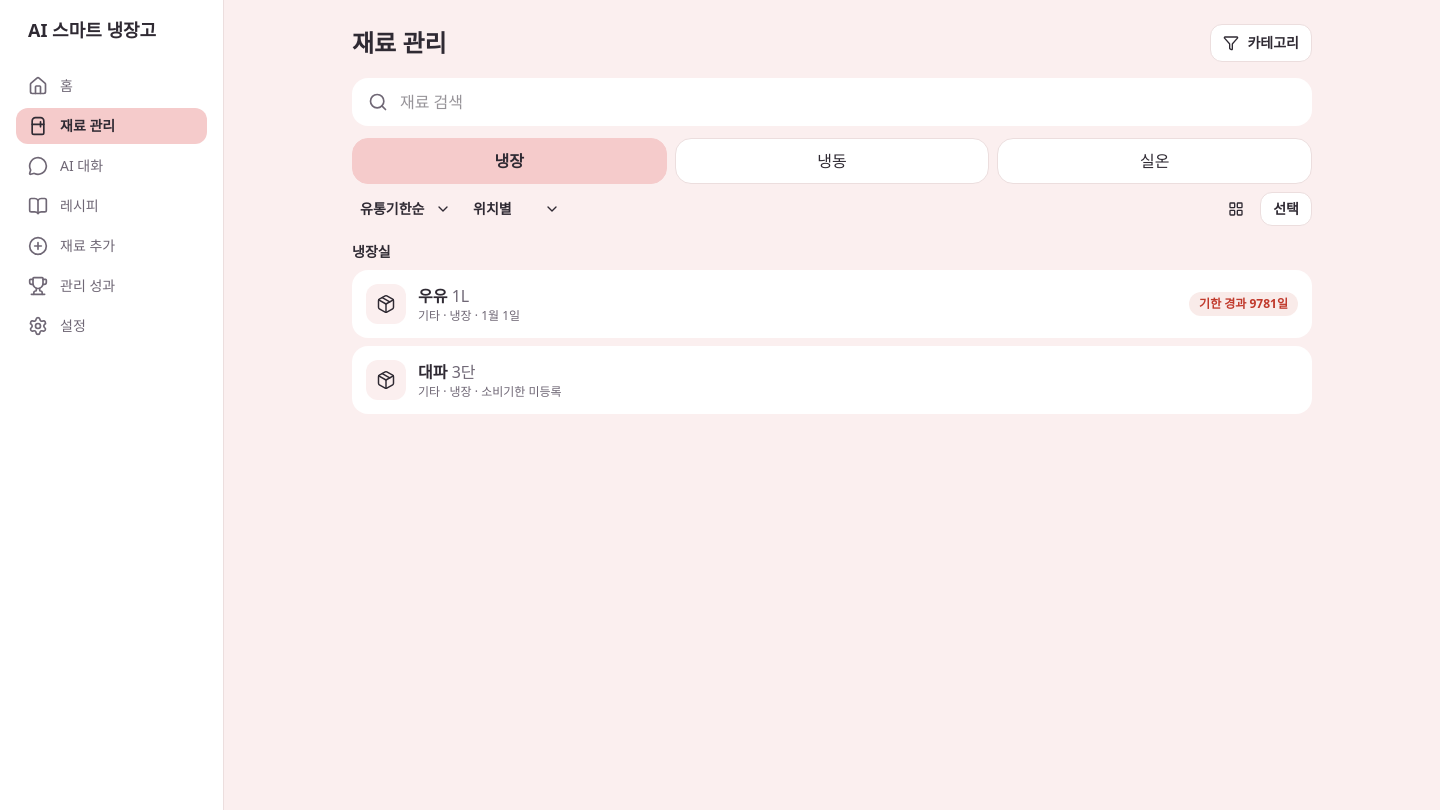
Scenario: 재료 관리 화면 › 보관 장소 탭별로 재료와 건수를 보여준다
Check: the link "우유 1L 기타 · 냉장 · 1월 1일 기한 경과 9781일" is shown, box x1=352 y1=270 x2=1312 y2=338
Check: the link "대파 3단 기타 · 냉장 · 소비기한 미등록" is shown, box x1=352 y1=346 x2=1312 y2=414
What coordinates should you click on to do the following:
click the tab "냉동"
I would click on:
 (832, 161)
Its box is x1=675 y1=138 x2=989 y2=184.
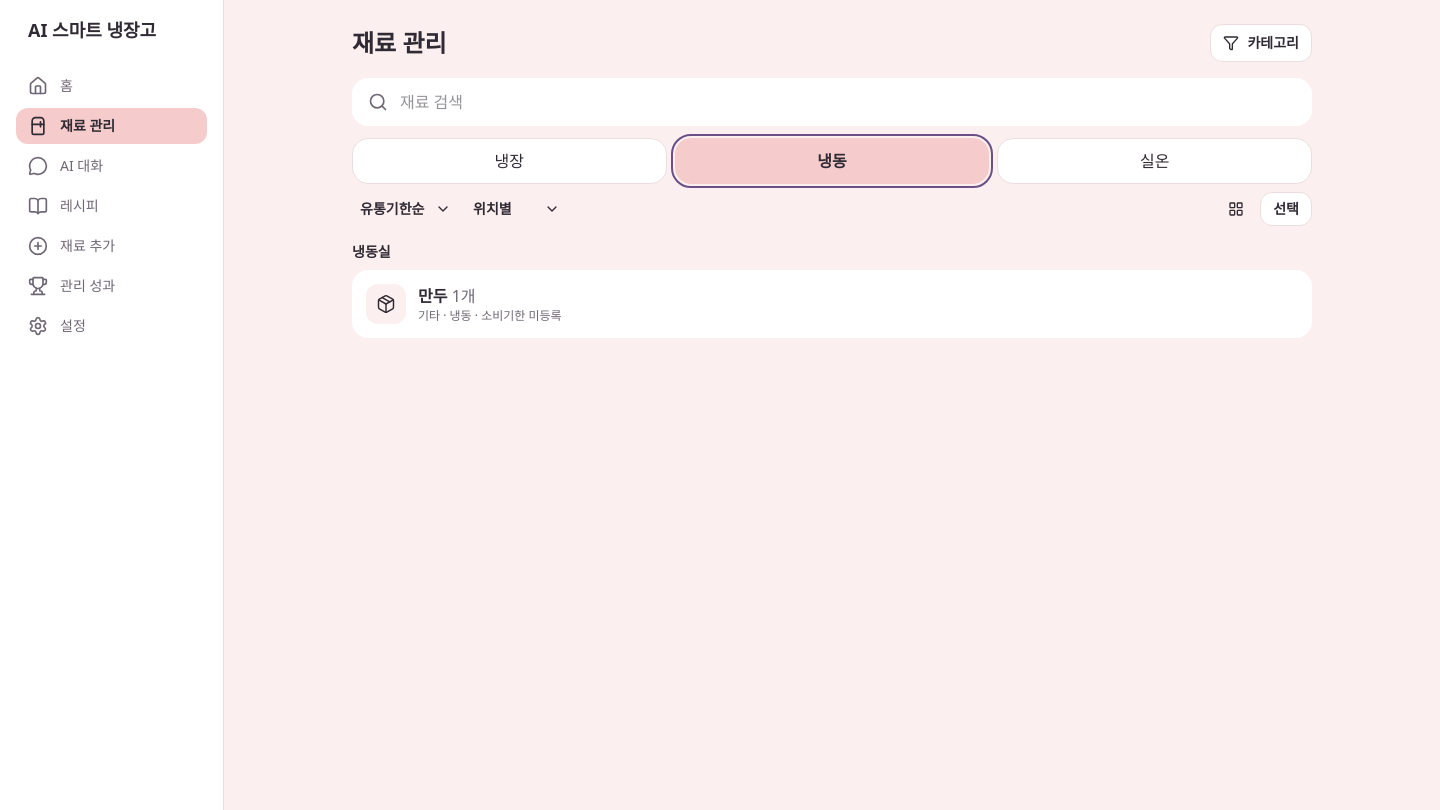
Check: the link "만두 1개 기타 · 냉동 · 소비기한 미등록" is shown, box x1=352 y1=270 x2=1312 y2=338
Check: the link "우유" is gone
What coordinates should you click on to do the following:
click the tab "실온"
I would click on:
 (1155, 161)
Its box is x1=997 y1=138 x2=1312 y2=184.
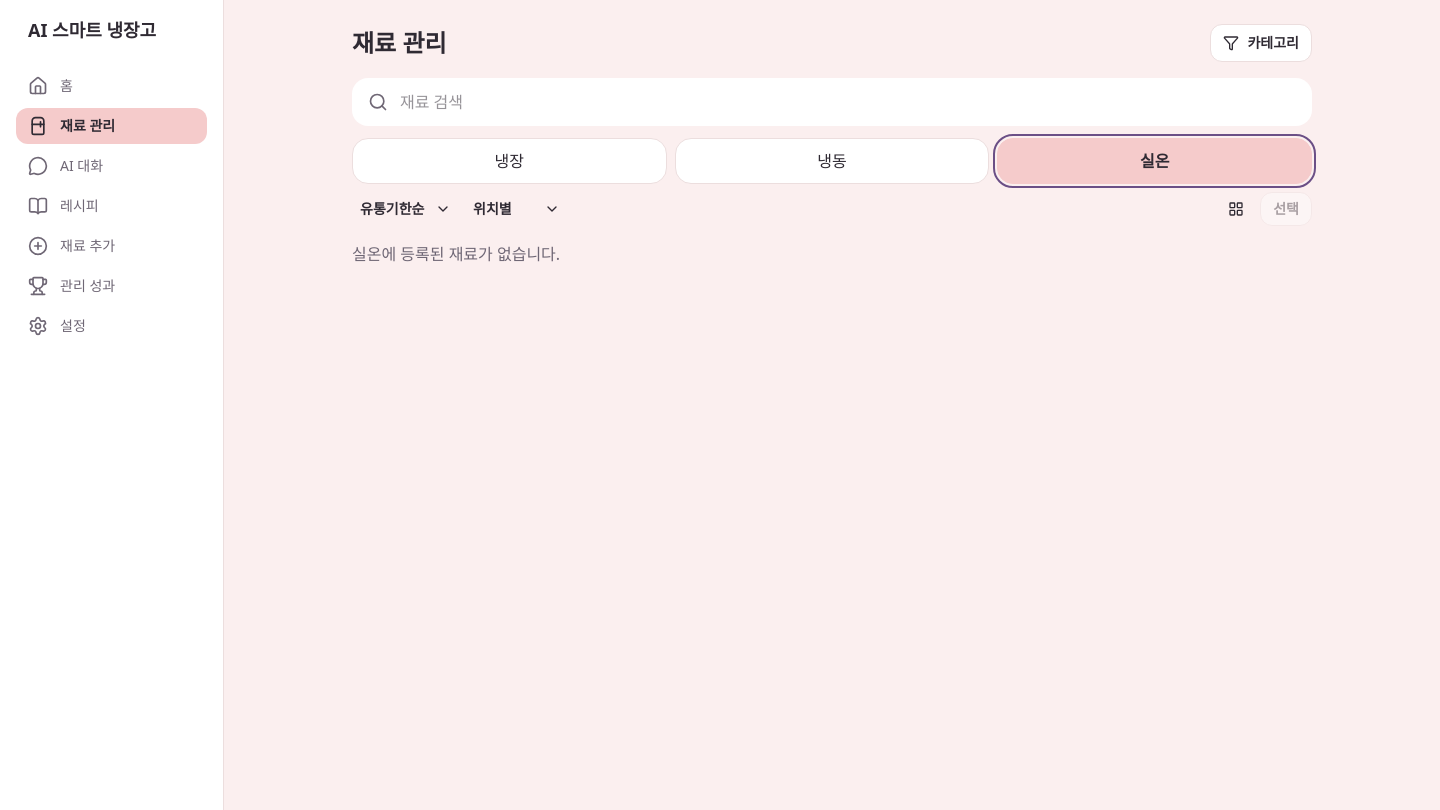
Check: the text "실온에 등록된 재료가 없습니다." is shown, box x1=352 y1=243 x2=560 y2=265
